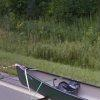Boat: (10, 54, 100, 100)
